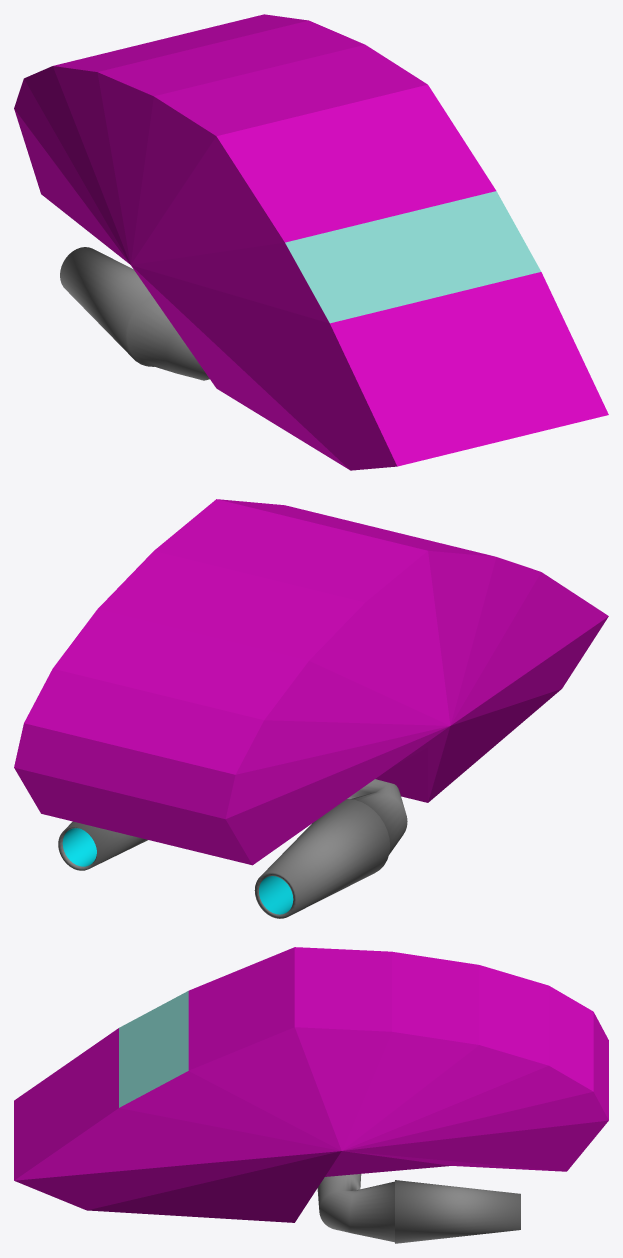
Rendered from Car_1.fbx.
3 views of the same model, one above another, from view 1: azimuth 30°, elevation 25°; view 2: azimuth 150°, elevation 25°; view 3: azimuth 270°, elevation 25° (orthographic). The views are drawn at different scales.
Parts seen in each view (by area): view 1: Car_1; view 2: Car_1; view 3: Car_1.
Part boxes in pixels (x1,y1,x2,y2): Car_1: [14, 14, 608, 470]; Car_1: [14, 499, 608, 918]; Car_1: [14, 947, 608, 1243].
Size of the model in its own units: 210 by 174 by 435.
